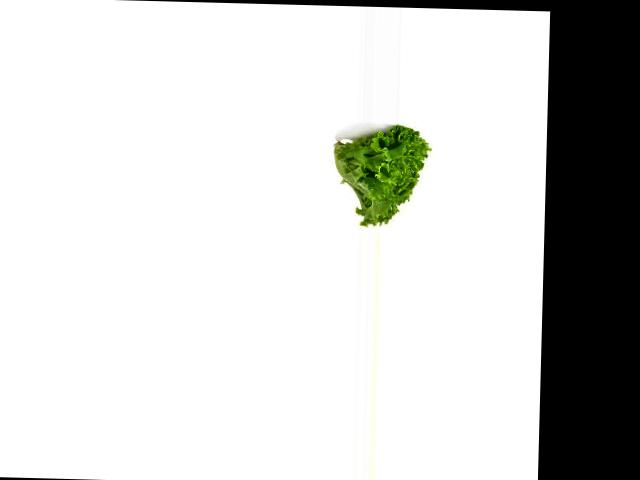lettuce: (325, 123, 437, 231)
